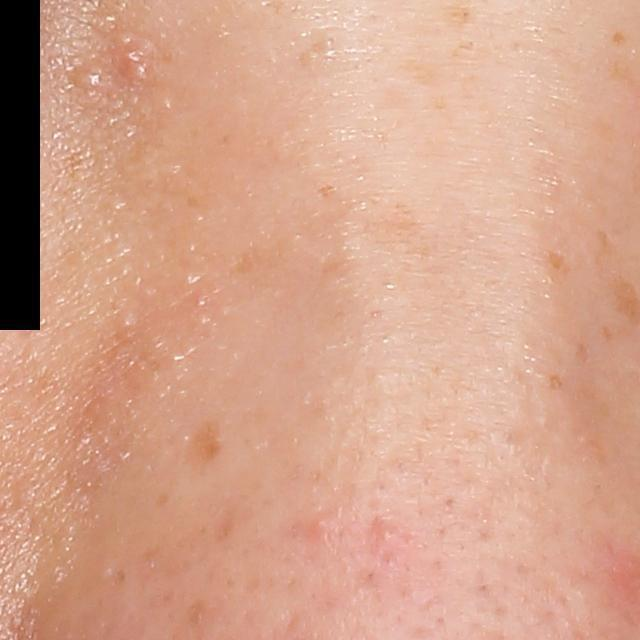comedo: (70, 68, 103, 95), (113, 306, 138, 332)
melasma: (214, 178, 430, 308), (183, 420, 226, 483), (543, 250, 570, 276), (546, 373, 564, 393), (596, 322, 612, 343), (611, 30, 628, 47)
papule: (376, 524, 396, 545)
